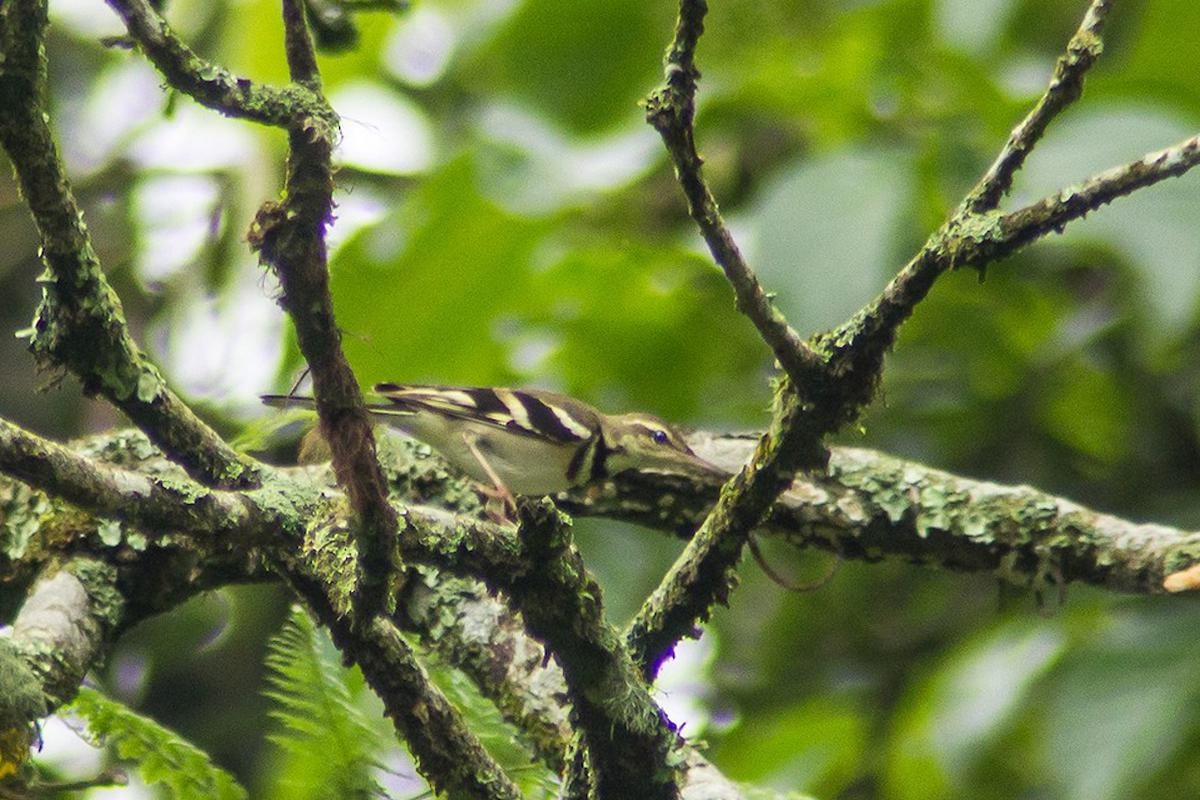wagtail: (338, 380, 725, 493)
